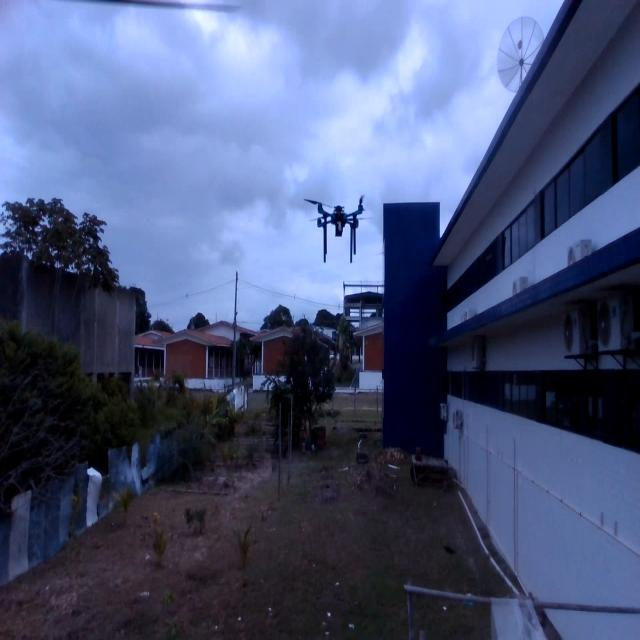-uav-: (291, 169, 390, 280)
